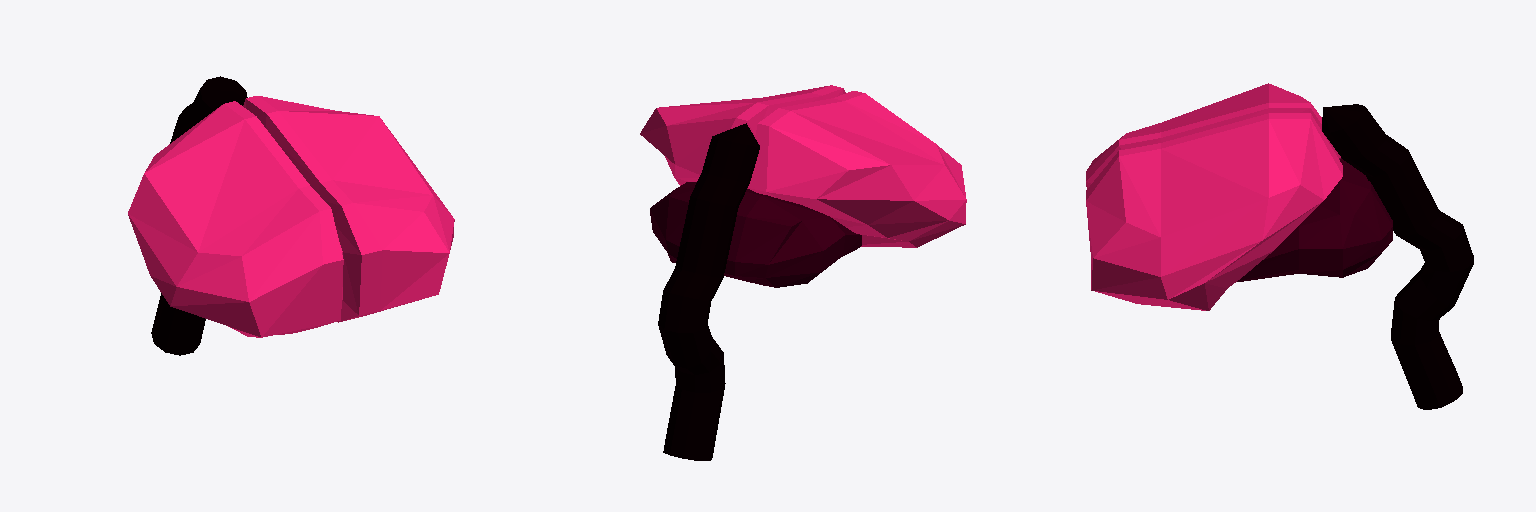
The model's file is Brain.obj.
3 renders of one model, left to right at view 1: azimuth 30°, elevation 25°; view 2: azimuth 150°, elevation 25°; view 3: azimuth 270°, elevation 25°, orthographic.
Parts seen in each view (by area): view 1: pCube1, pCylinder1; view 2: pCube1, pCylinder1, pCube2; view 3: pCube1, pCylinder1, pCube2.
Part boxes in pixels (left/top/right/bottom): pCube1: left=128, top=96, right=454, bottom=337; pCylinder1: left=151, top=76, right=247, bottom=355; pCube1: left=640, top=85, right=966, bottom=247; pCylinder1: left=658, top=123, right=759, bottom=460; pCube2: left=650, top=182, right=861, bottom=287; pCube1: left=1086, top=83, right=1342, bottom=310; pCylinder1: left=1322, top=104, right=1473, bottom=409; pCube2: left=1237, top=158, right=1392, bottom=281.
Size of the model in its own units: 11.41 by 11.29 by 13.35.